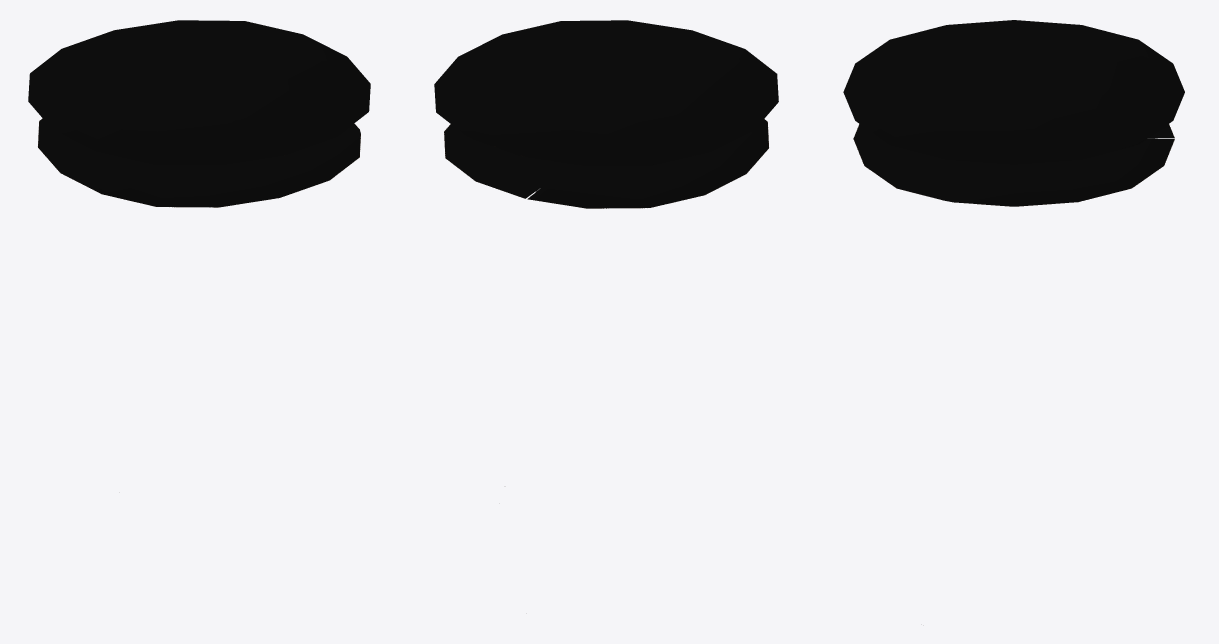
File: endtable.fbx
3 views of the same model, side by side, from view 1: azimuth 30°, elevation 25°; view 2: azimuth 150°, elevation 25°; view 3: azimuth 270°, elevation 25° (orthographic).
Visible parts, largest first — view 1: pCube5; view 2: pCube5; view 3: pCube5.
Boxes of the visible parts, x1=… form: pCube5: x1=28, y1=20, x2=370, y2=207; pCube5: x1=434, y1=20, x2=778, y2=208; pCube5: x1=843, y1=20, x2=1184, y2=206.
Bounding box in the file's own units: 74.36 × 75.67 × 103.
Materials: 1 (1 with a texture image).
